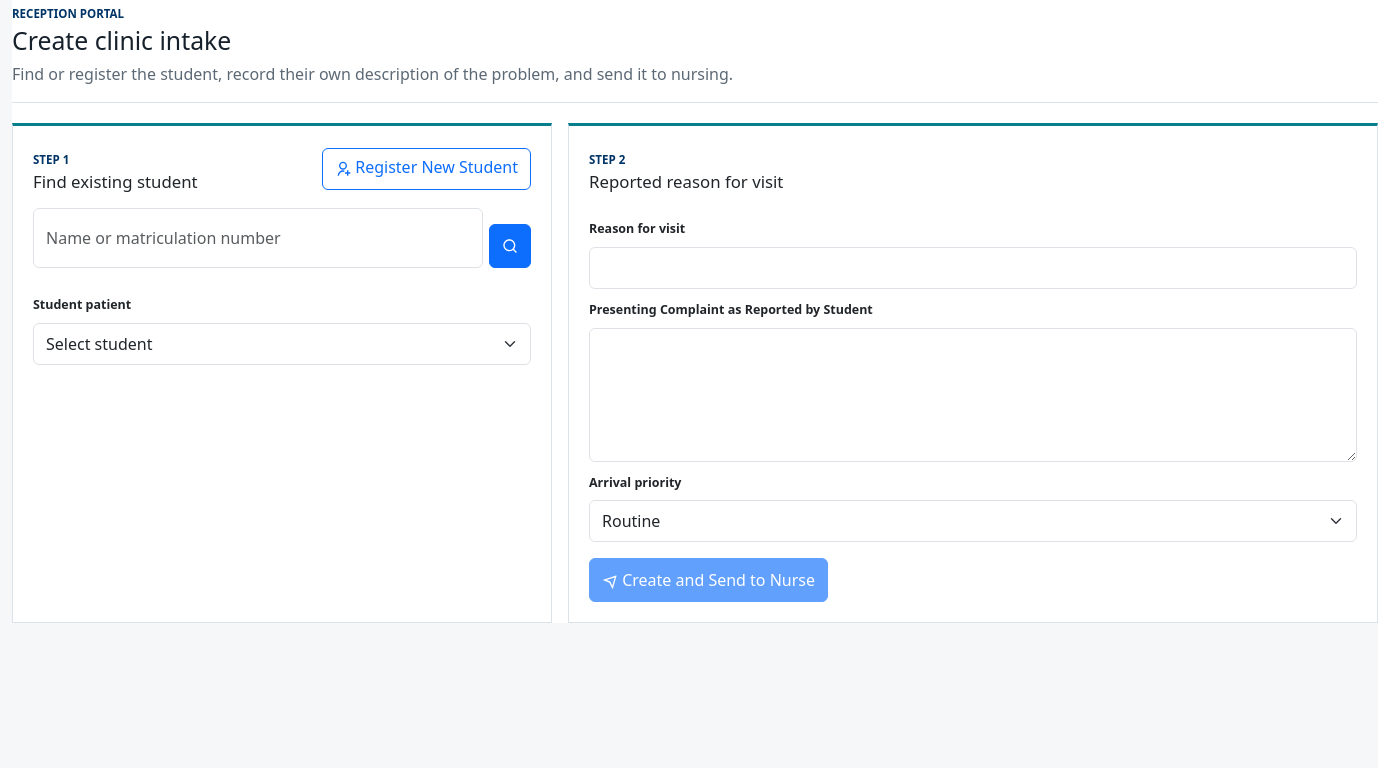
Scenario: reception creates and submits an intake without clinical controls
The width and height of the screenshot is (1378, 768).
Select "DEMO/001 | Amina Yusuf" in the dropdown labelled "Student patient" at {"x": 282, "y": 344}, box [33,323,531,365]
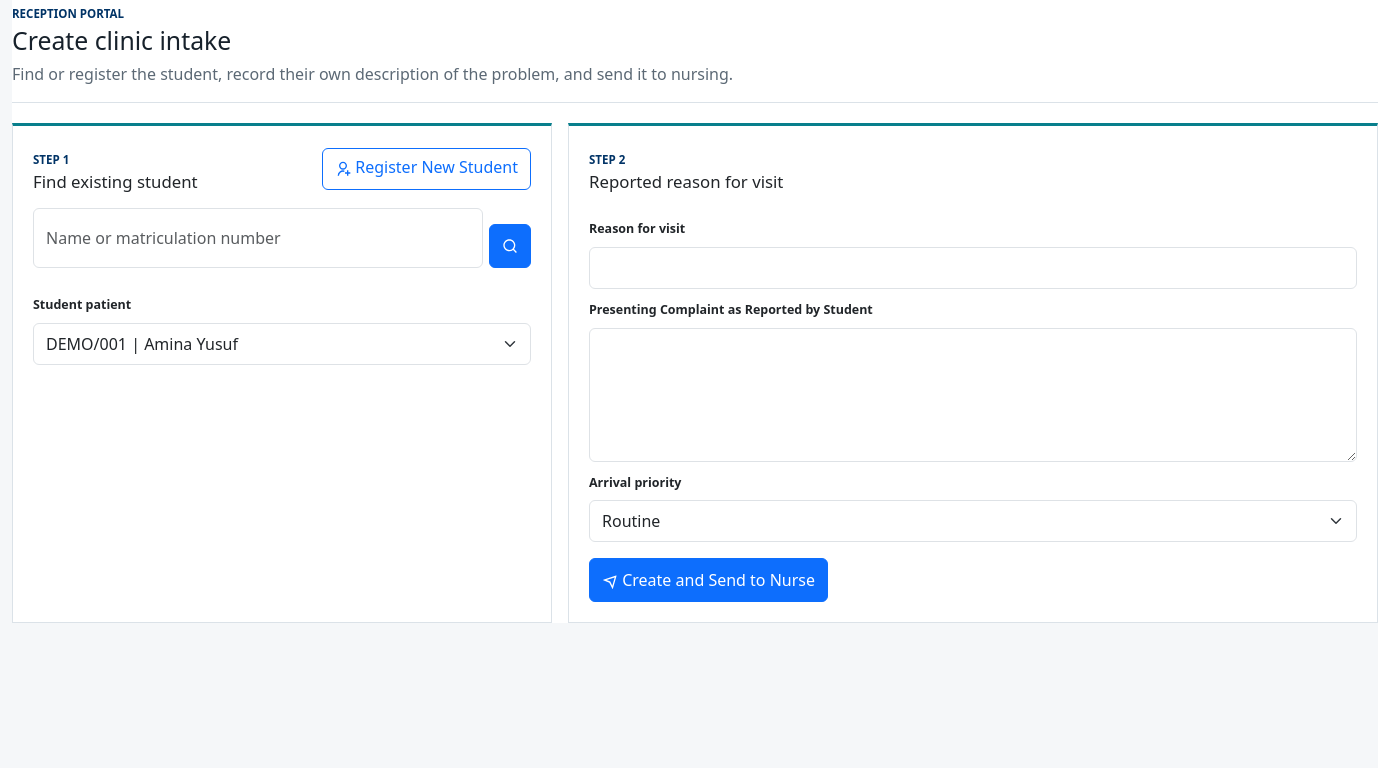
Type "Headache" into the field labelled "Reason for visit" at {"x": 973, "y": 268}, box [589,247,1357,289]
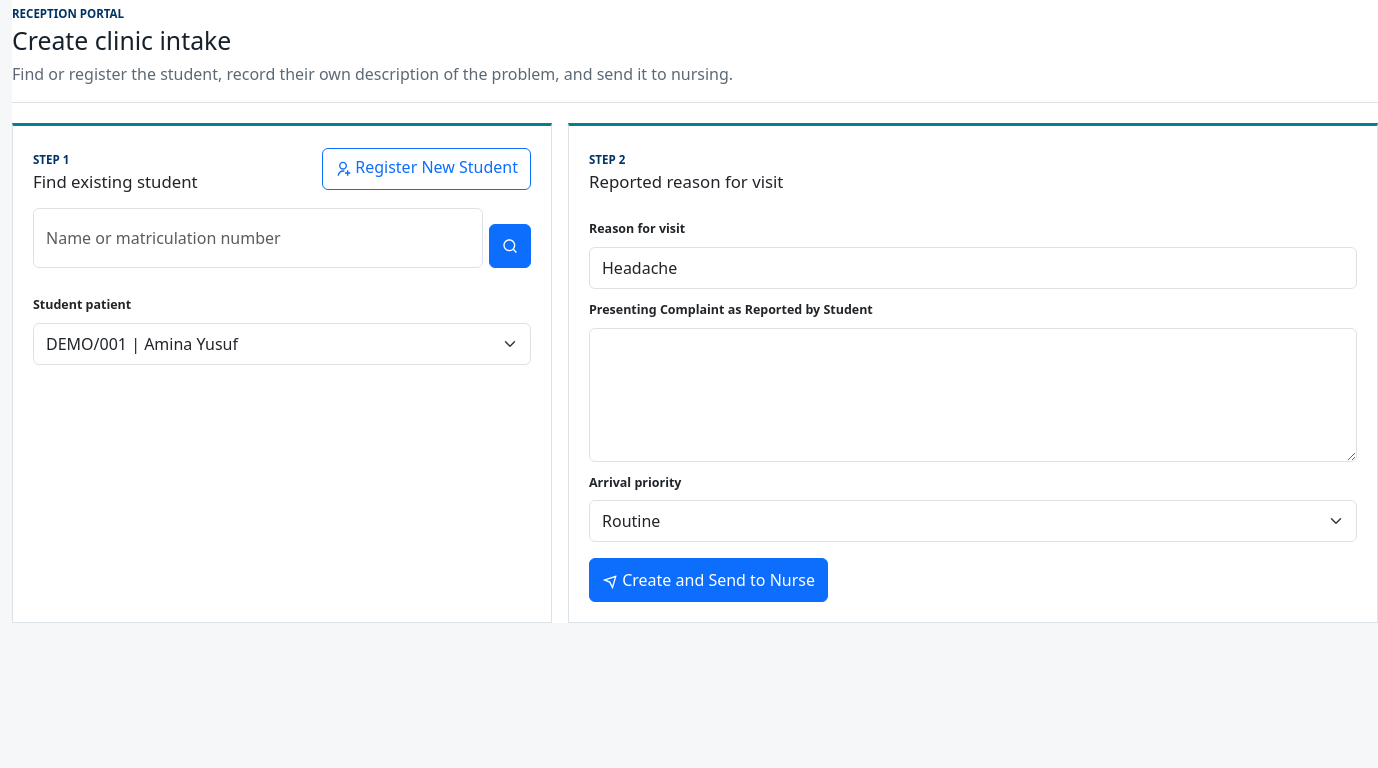
Type "Headache since morning" into the text box labelled "Presenting Complaint as Reported by Student" at {"x": 973, "y": 395}, box [589,328,1357,462]
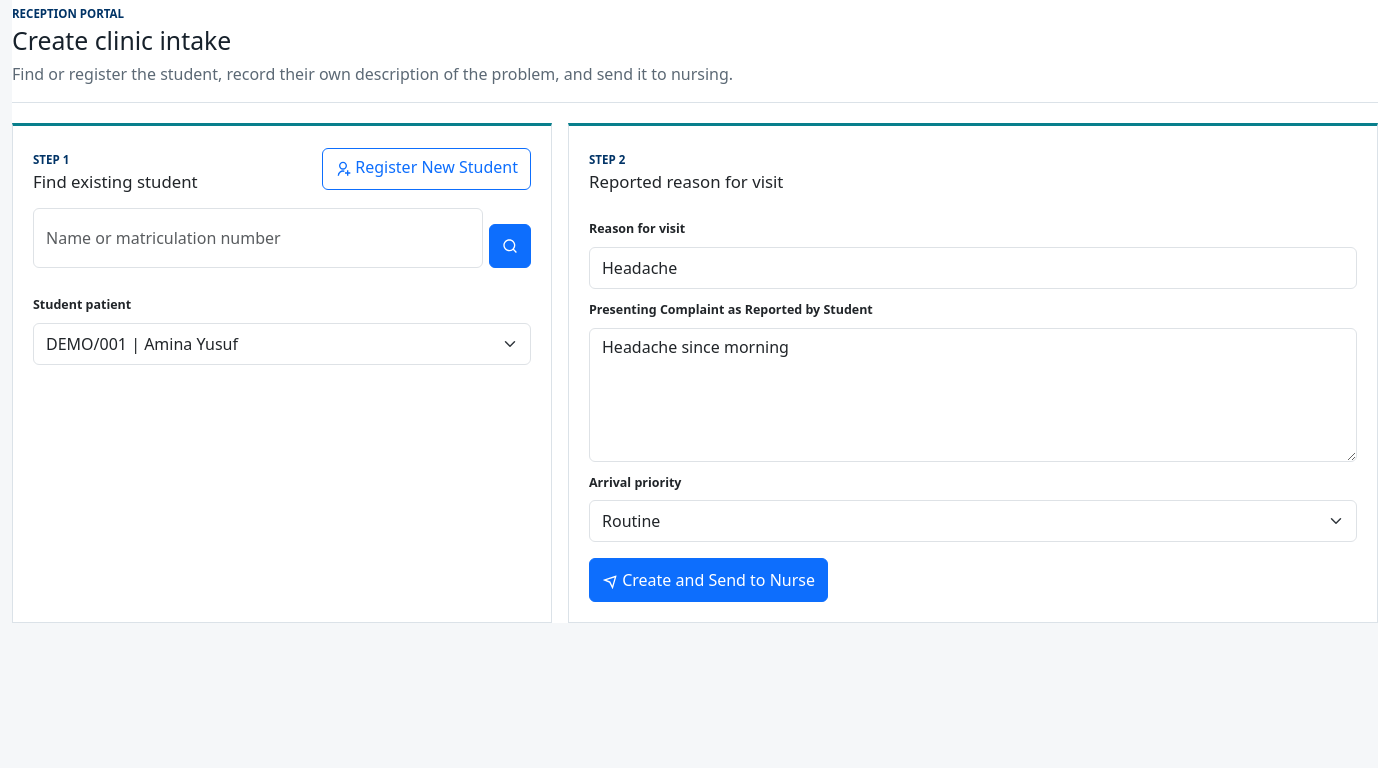
Click the button "Create and Send to Nurse" at {"x": 709, "y": 580}, box [589,558,828,602]
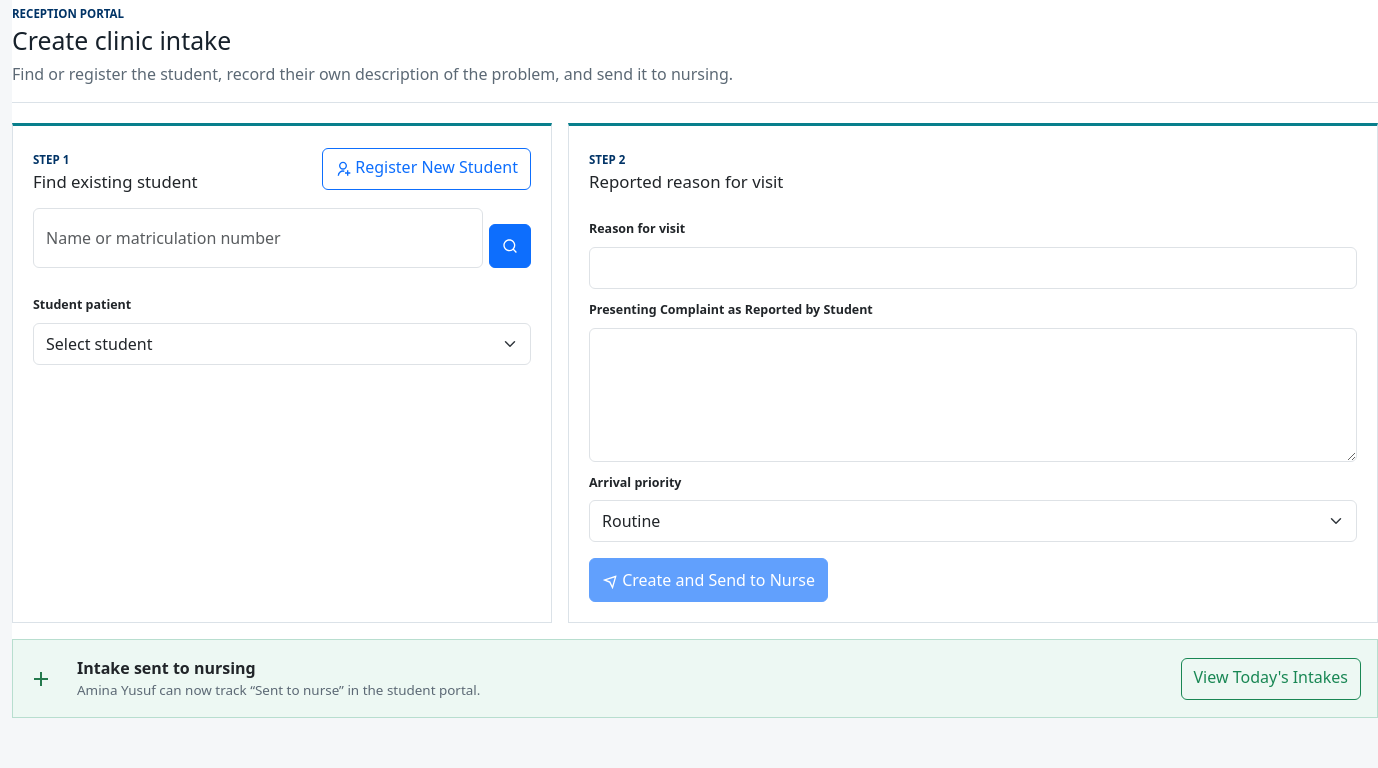
Now the text "Intake sent to nursing" is shown, box [77,657,256,679]
